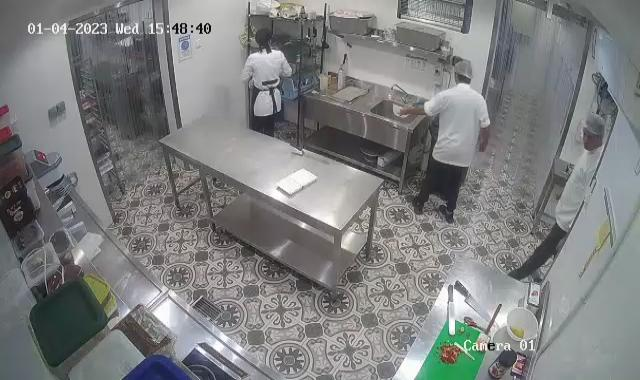hairnet: (581, 113, 608, 145), (452, 62, 474, 86)
no_hairnet: (254, 27, 274, 48)
